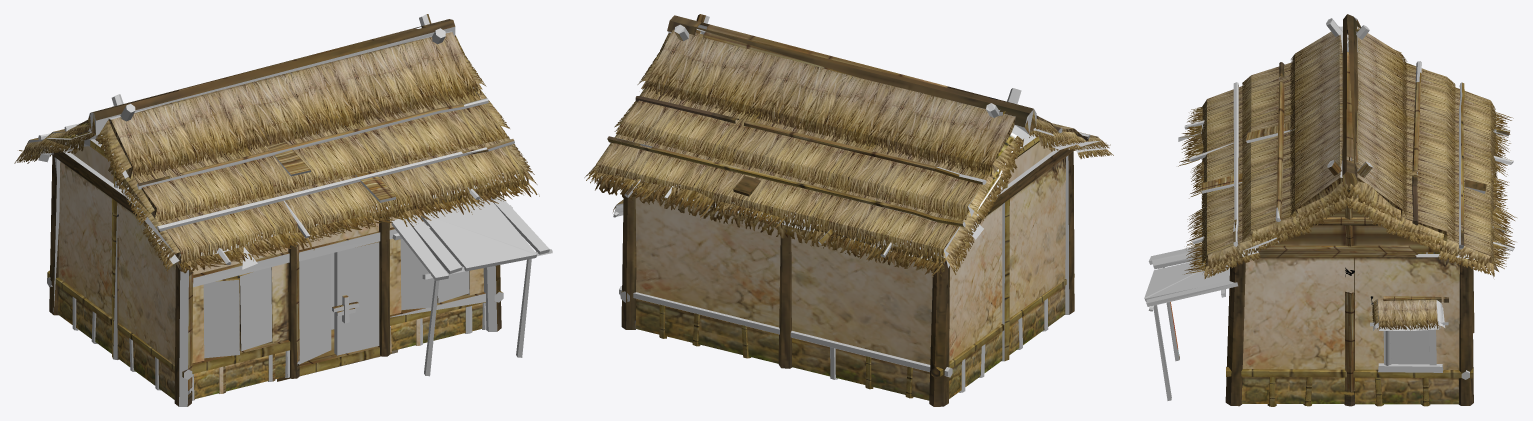
The model's file is Building01.FBX.
3 renders of one model, left to right at view 1: azimuth 30°, elevation 25°; view 2: azimuth 150°, elevation 25°; view 3: azimuth 270°, elevation 25°, orthographic. The views are drawn at different scales.
Visible parts, largest first — view 1: shuyoco_2_014; view 2: shuyoco_2_014; view 3: shuyoco_2_014.
Part boxes in pixels (box(x1,y1,x2,y2)): shuyoco_2_014: box(14, 14, 552, 406); shuyoco_2_014: box(584, 14, 1113, 406); shuyoco_2_014: box(1144, 14, 1516, 406).
Bounding box in the file's own units: 22.95 × 15.49 × 21.3.
